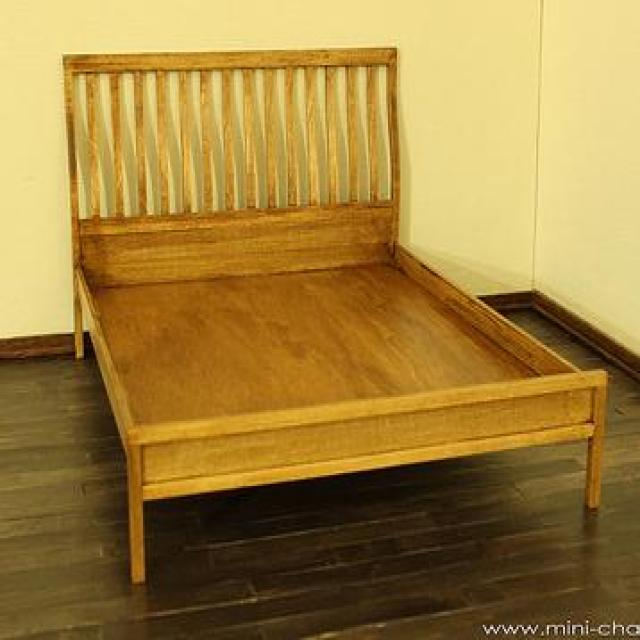bed: (61, 43, 610, 586)
